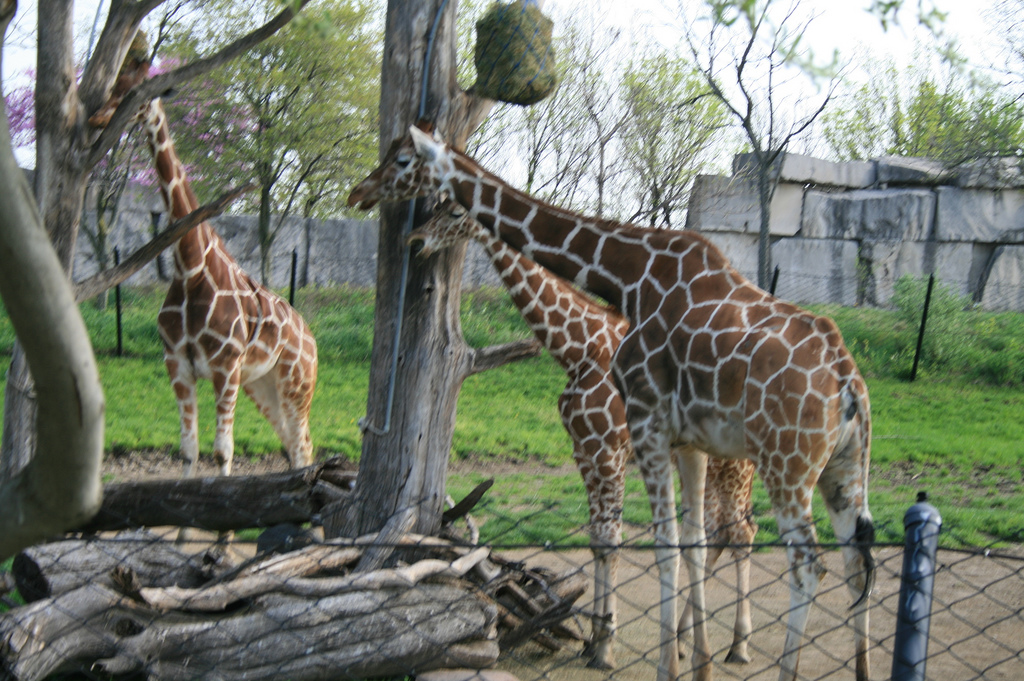giraffe: (367, 127, 894, 609), (90, 25, 401, 505)
